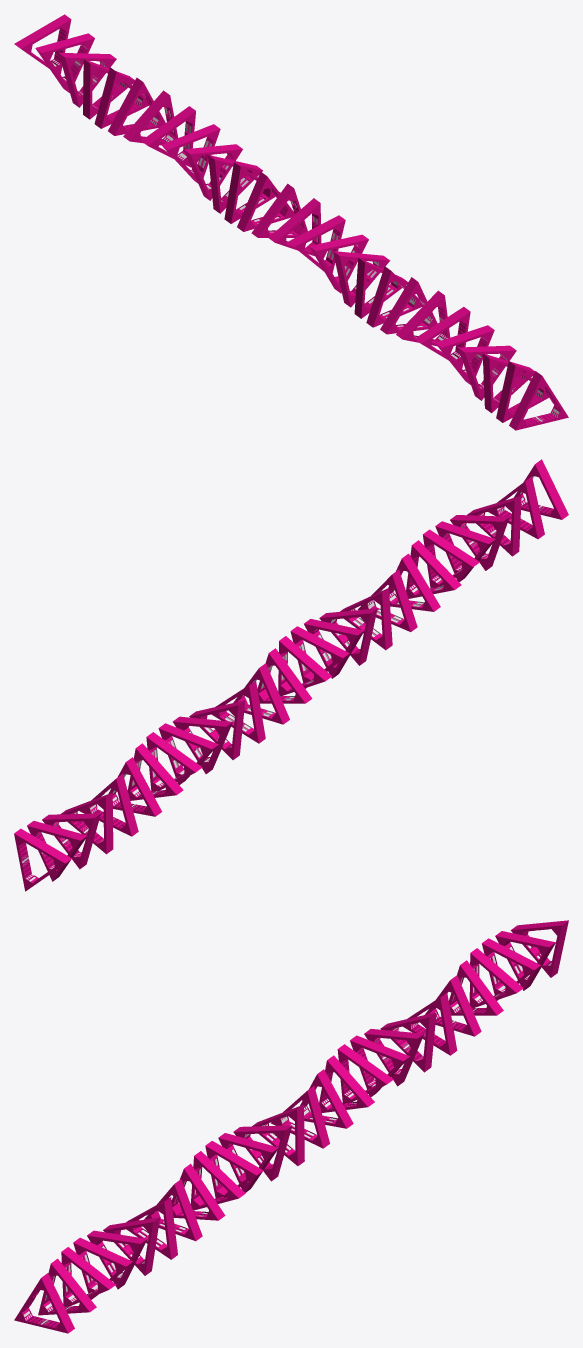
Rendered from LastAnime.fbx.
3 renders of one model, top to bottom at view 1: azimuth 30°, elevation 25°; view 2: azimuth 150°, elevation 25°; view 3: azimuth 330°, elevation 25°, orthographic.
Parts seen in each view (by area): view 1: Cylinder; view 2: Cylinder; view 3: Cylinder.
Part boxes in pixels (bbox=[...]): Cylinder: bbox=[14, 14, 568, 430]; Cylinder: bbox=[14, 459, 568, 891]; Cylinder: bbox=[14, 920, 568, 1333].
Bounding box in the file's own units: 400 × 400 × 5608.
